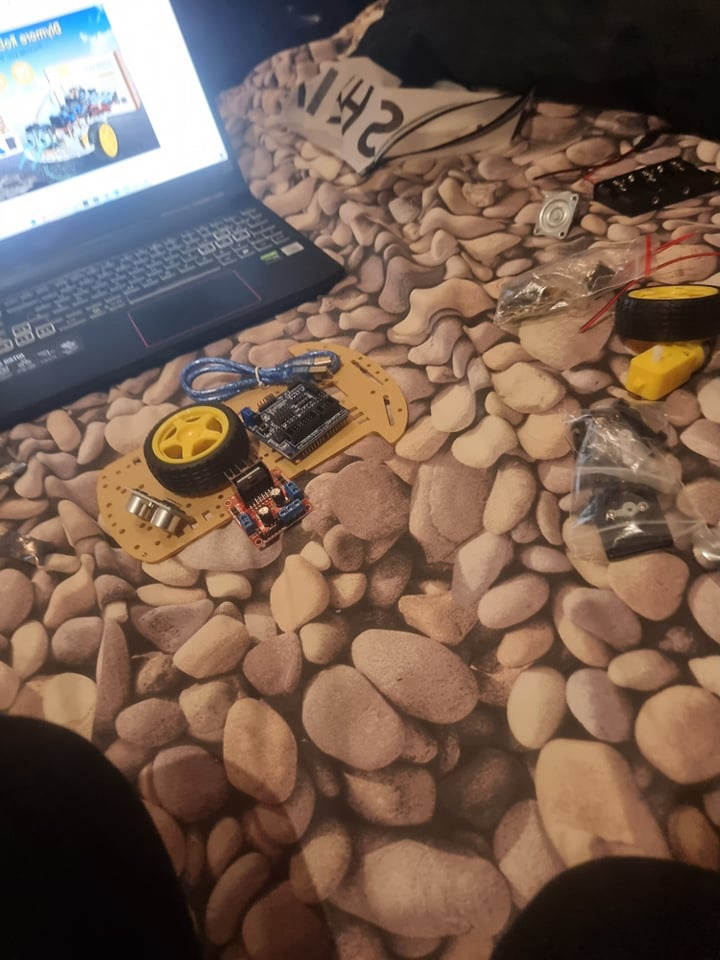5V EXPANSION: (242, 377, 352, 463)
BATTERY BOX: (593, 142, 712, 218)
MOTOR: (223, 462, 314, 551)
SENSOR: (123, 491, 187, 535)
